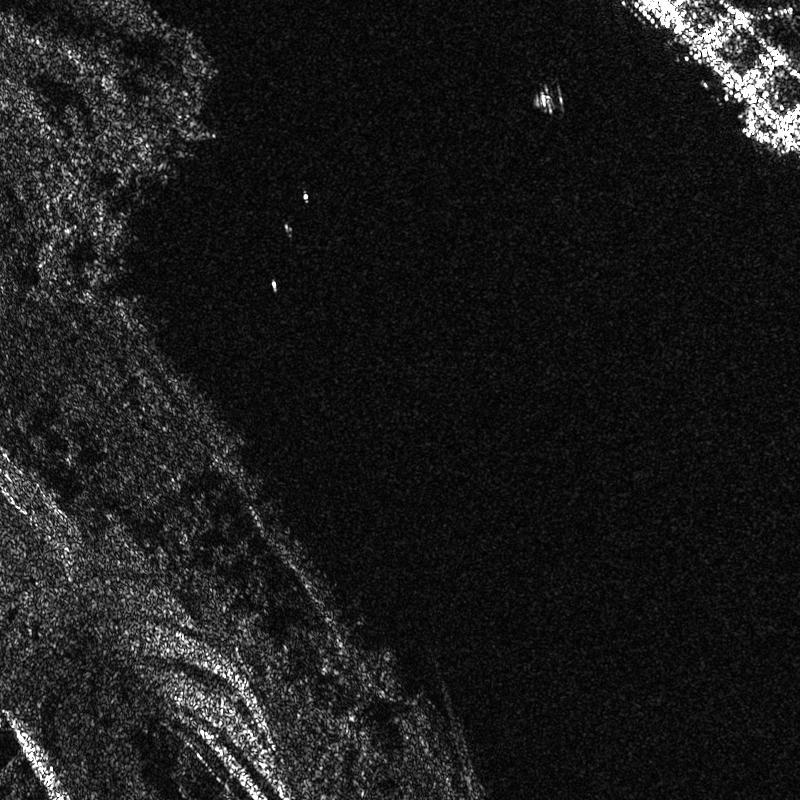ship: (613, 0, 799, 152), (539, 89, 555, 114)
